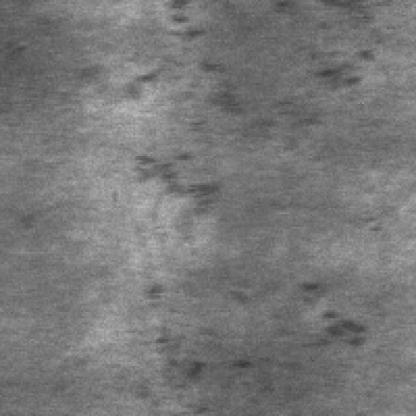rolled-in_scale: (125, 4, 372, 210), (148, 283, 366, 389)
